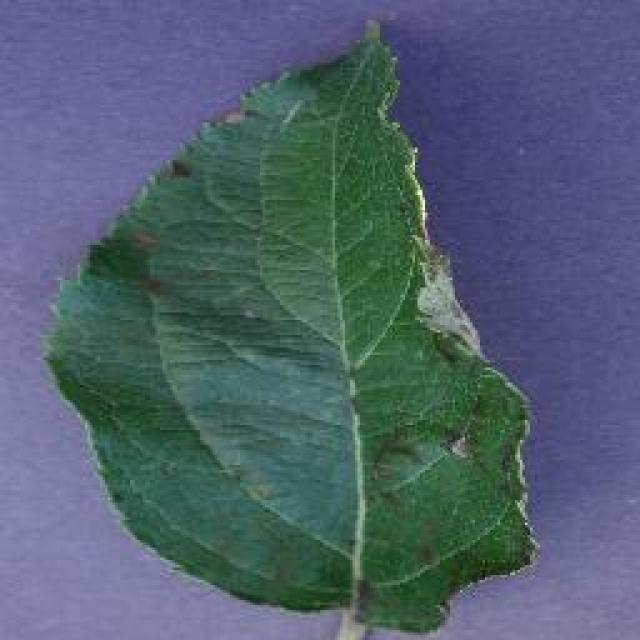apple scab disease: (40, 15, 540, 637)
